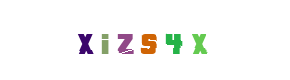4: (125, 0, 205, 80)
I: (81, 0, 161, 80)
S: (109, 0, 189, 80)
X: (45, 0, 125, 80), (134, 0, 214, 80)
Z: (105, 0, 185, 80)
